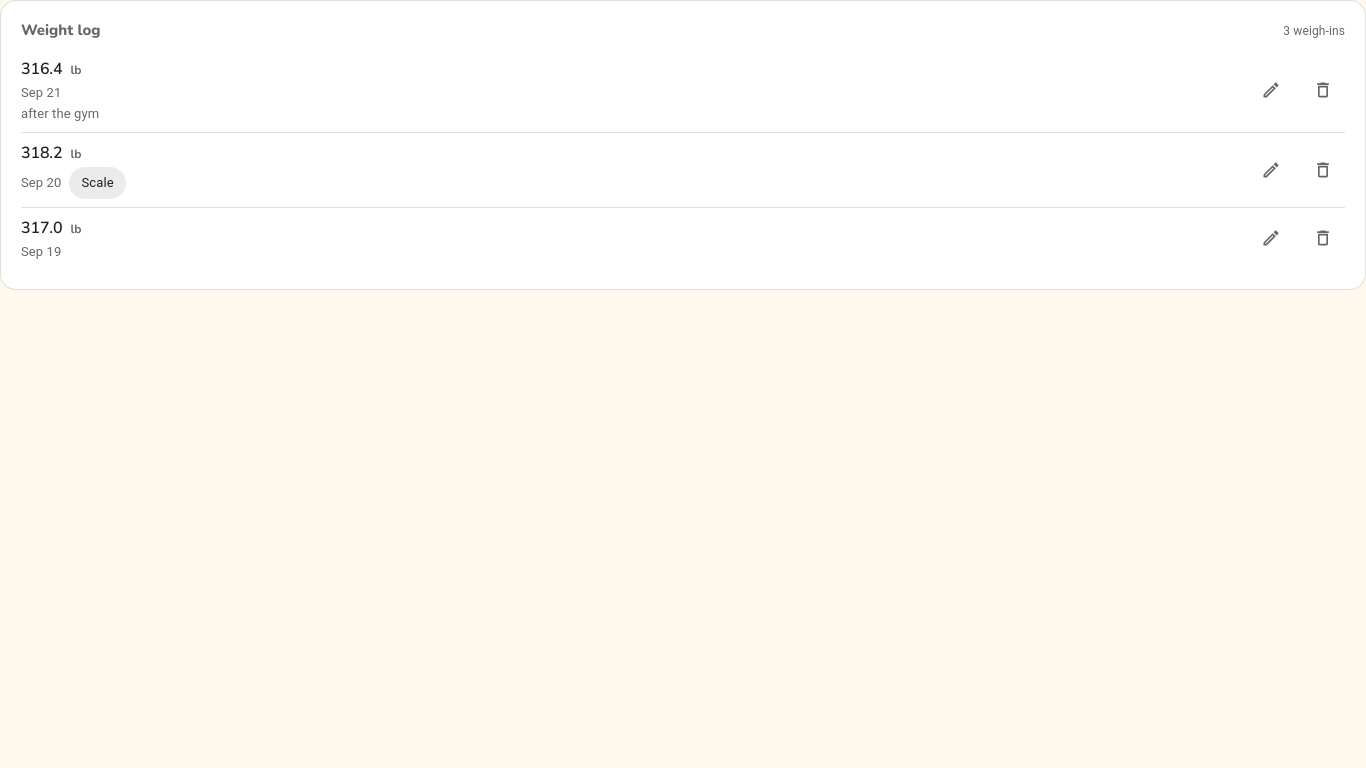
it: WeightLogList › edits a weight and its note, and closes on success
Click the button named "edit the 316.4" at (1271, 90), box [1249,68,1293,112]
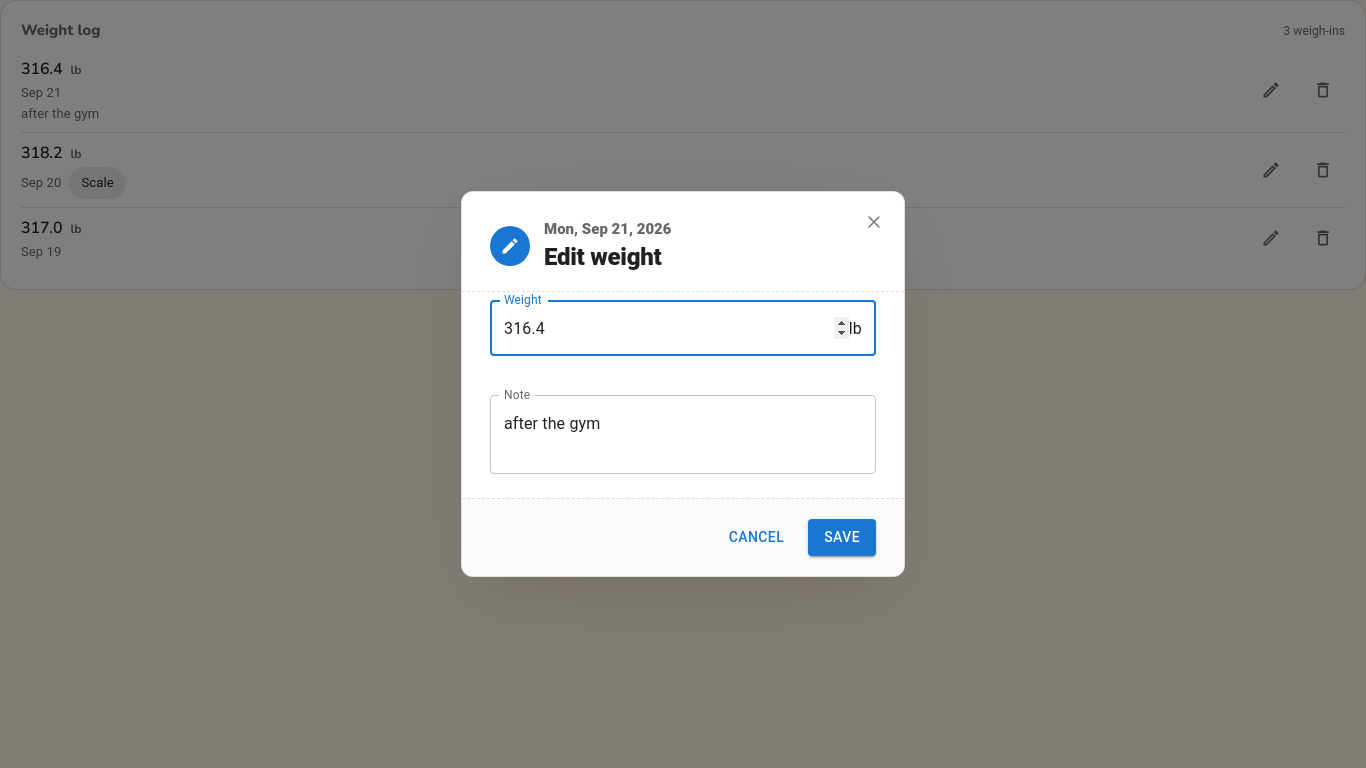
Replace the text in the number field labelled "Weight" with "316.8" at (669, 328), box [490,300,849,356]
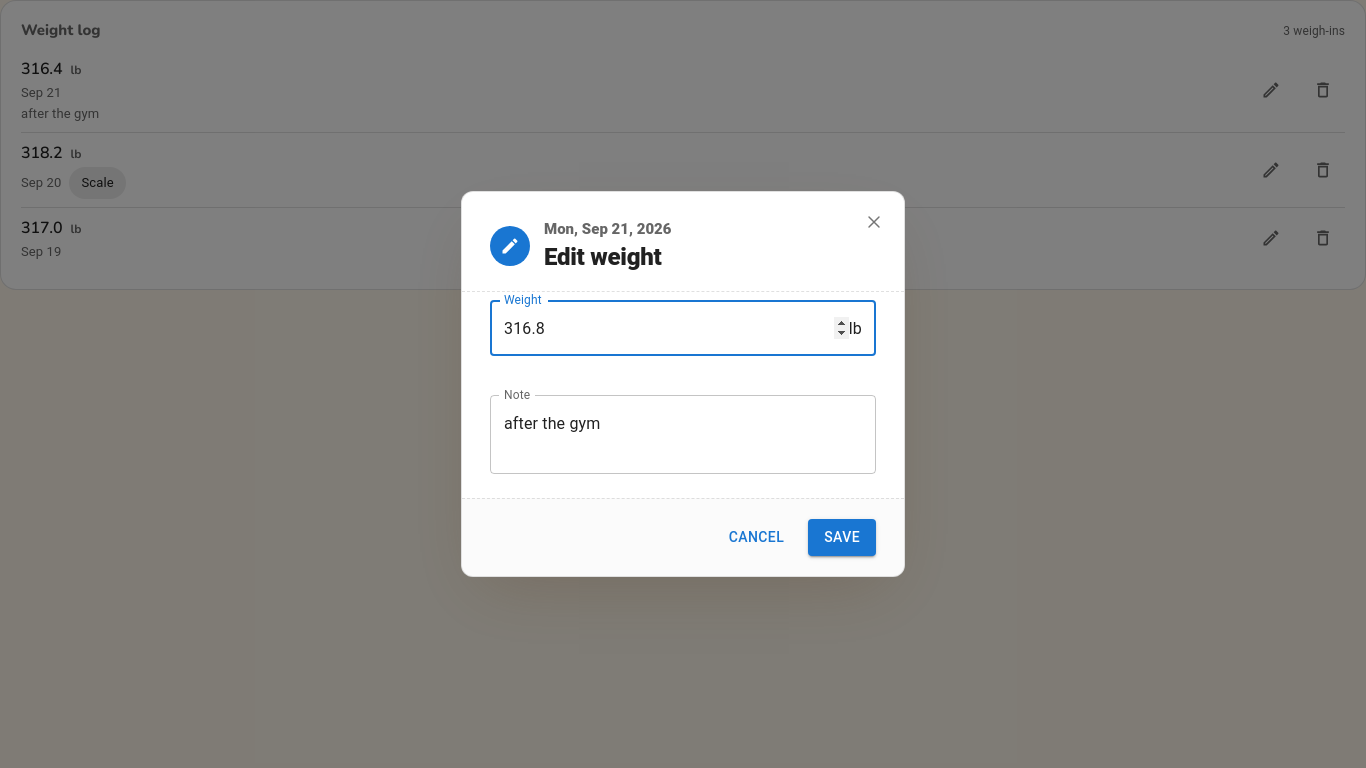
Replace the text in the text box labelled "Note" with "fixed typo" at (683, 435), box [504,412,862,458]
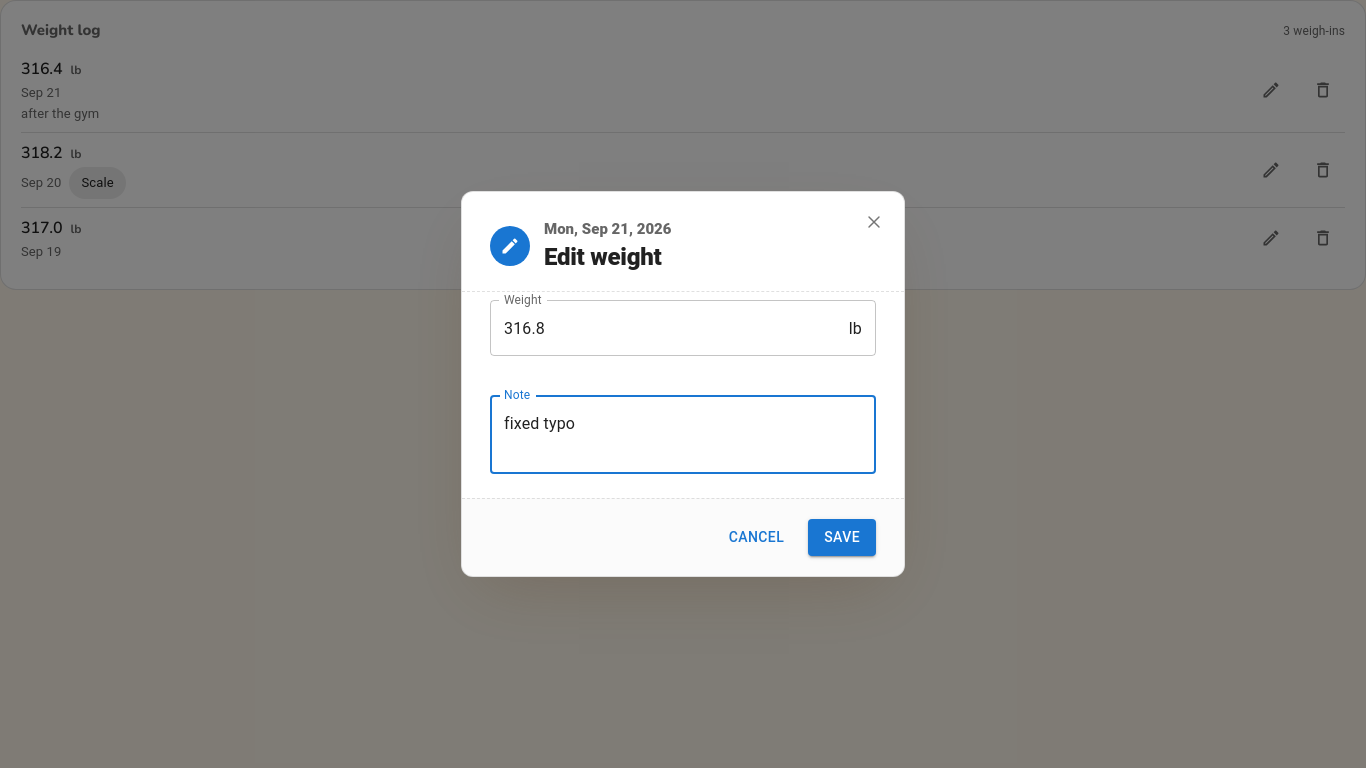
Click the button "Save" at (842, 538), box [808,519,876,556]
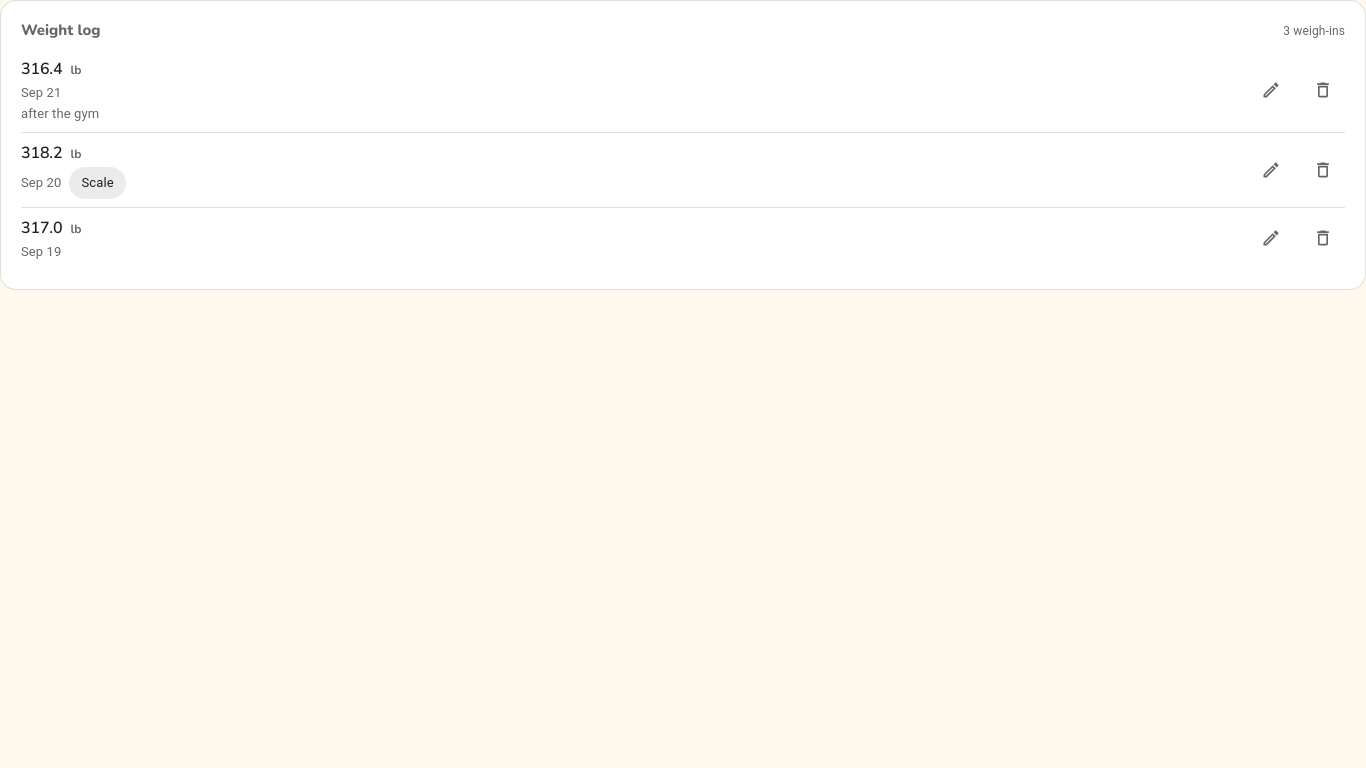
Result: the dialog is gone
